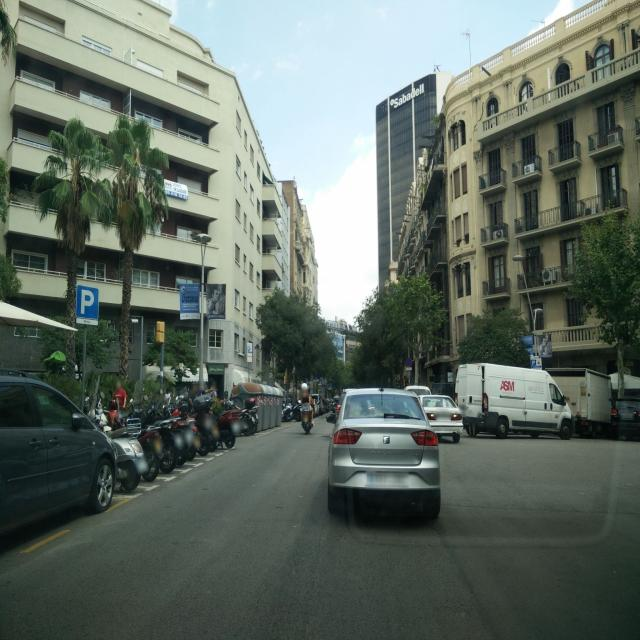forb_stopping: (406, 358, 413, 367)
